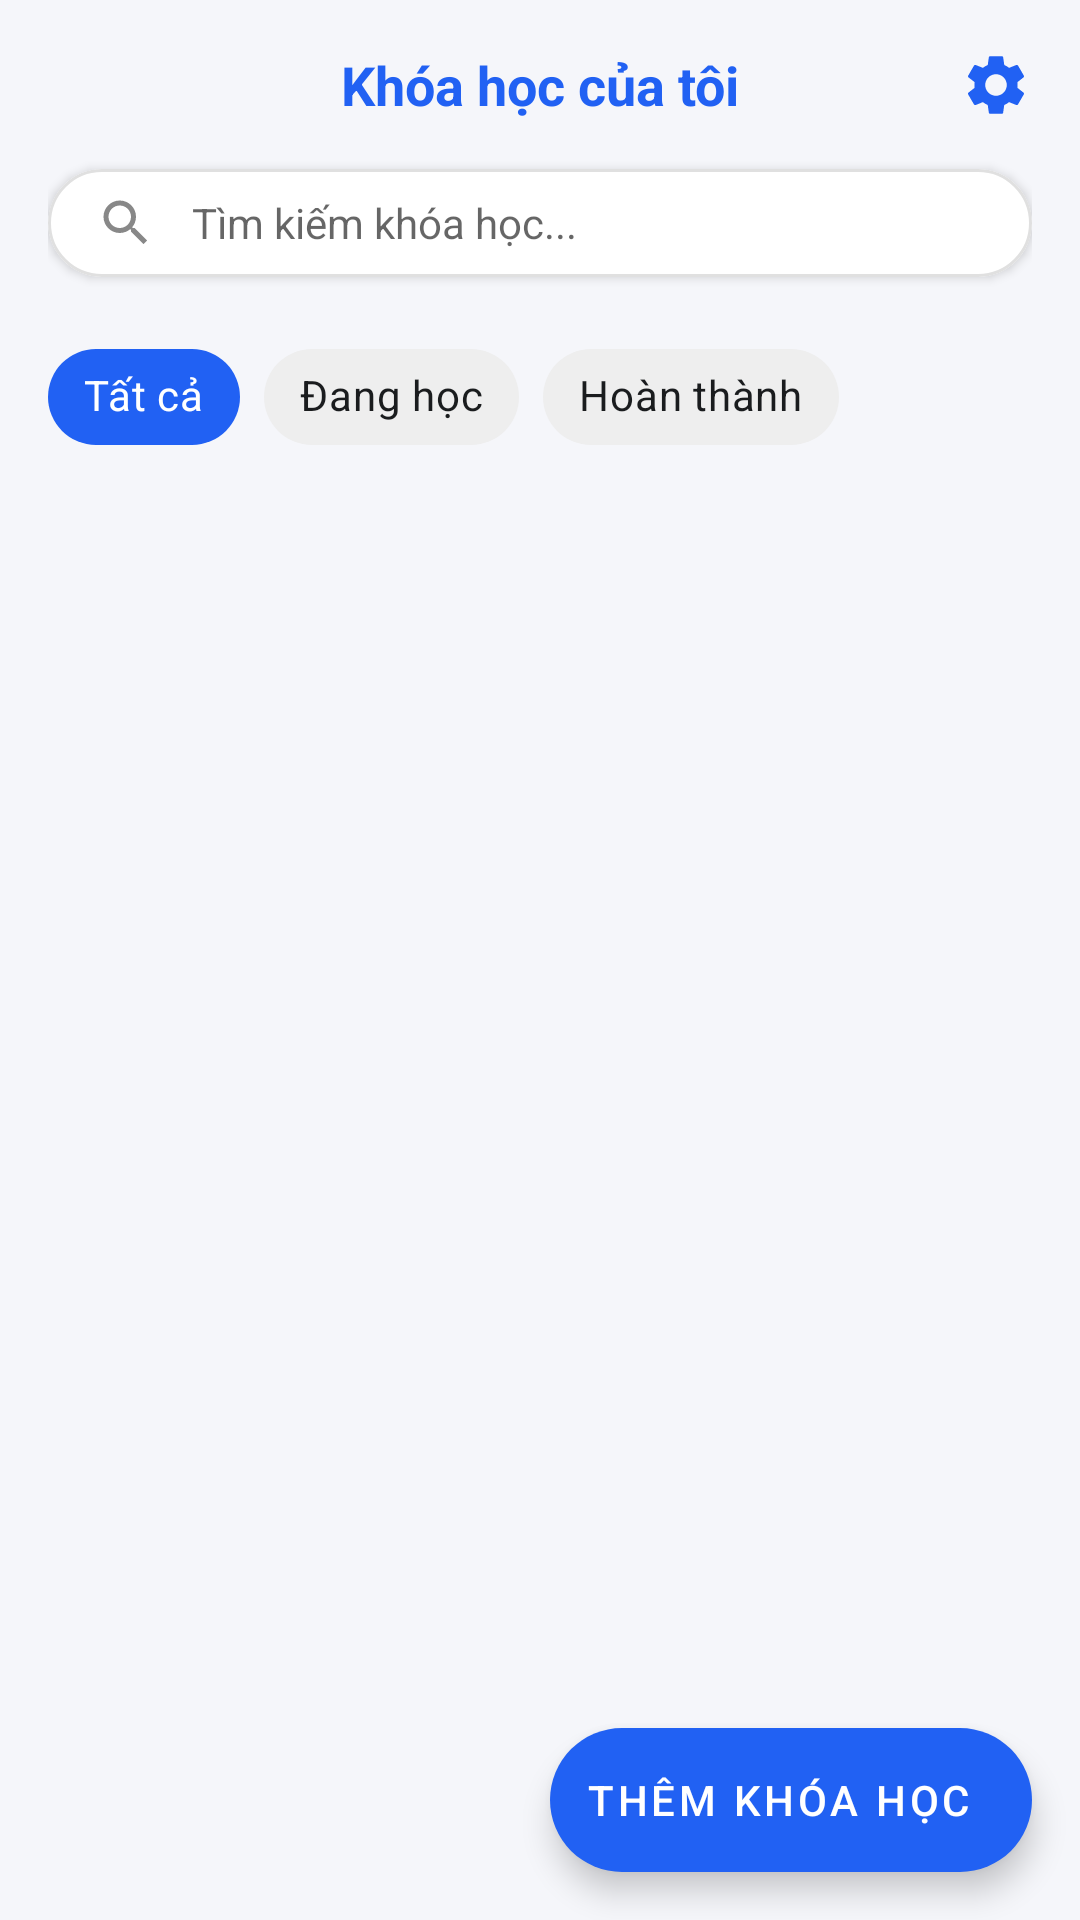

Icon click points for this 1080×1920 phone screenshot, format point (x, y):
search: point (125, 222)
settings: point (996, 85)
